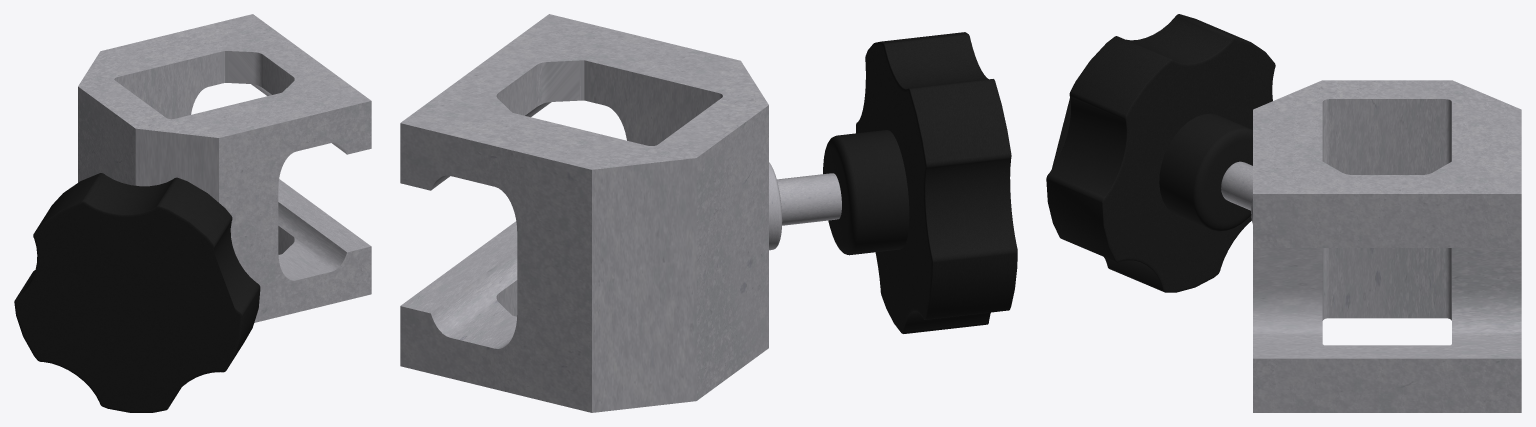
The model's file is heavy_quadrate_clamp.fbx.
The picture shows the model from 3 angles, left to right: view 1: azimuth 30°, elevation 25°; view 2: azimuth 150°, elevation 25°; view 3: azimuth 270°, elevation 25°; orthographic projection. The views are drawn at different scales.
Parts seen in each view (by area): view 1: clamp, knob; view 2: clamp, knob, screw; view 3: clamp, knob, screw.
Boxes of the visible parts, x1,y1,x2,y2 form: clamp: (78,14,371,322); knob: (14,173,260,412); clamp: (400,14,782,412); knob: (823,32,1017,333); screw: (777,173,841,225); clamp: (1251,80,1521,412); knob: (1046,14,1275,292); screw: (1221,161,1252,210).
Size of the model in its own units: 8.88 by 4.89 by 8.85.
Materials: 2 (2 with a texture image).
